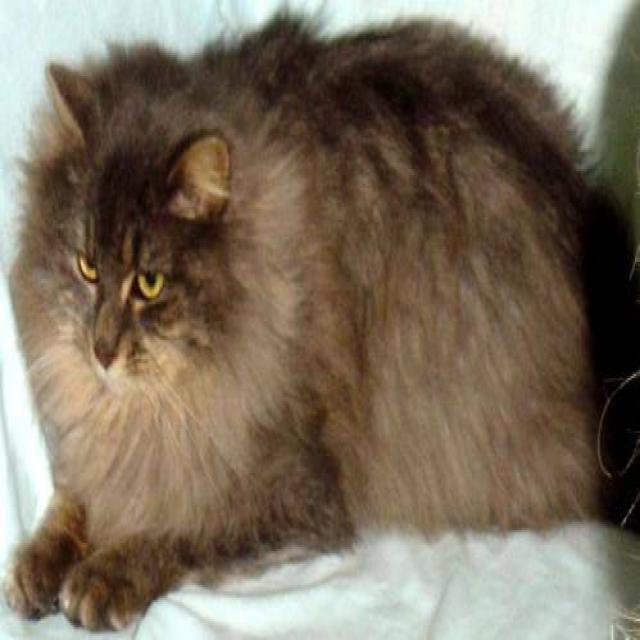Cat: (25, 54, 272, 443)
